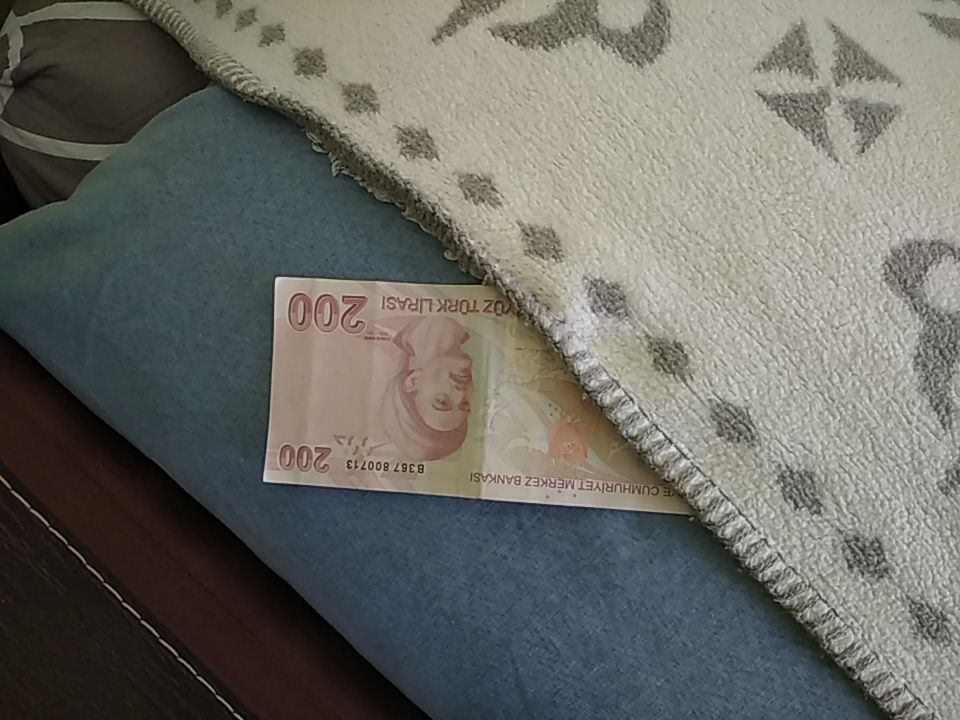200TL: (258, 275, 707, 524)
